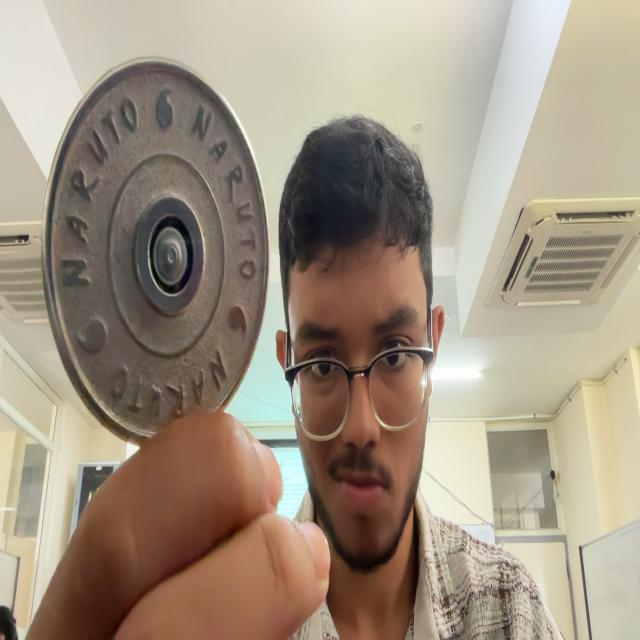dangerous: (42, 59, 269, 443)
